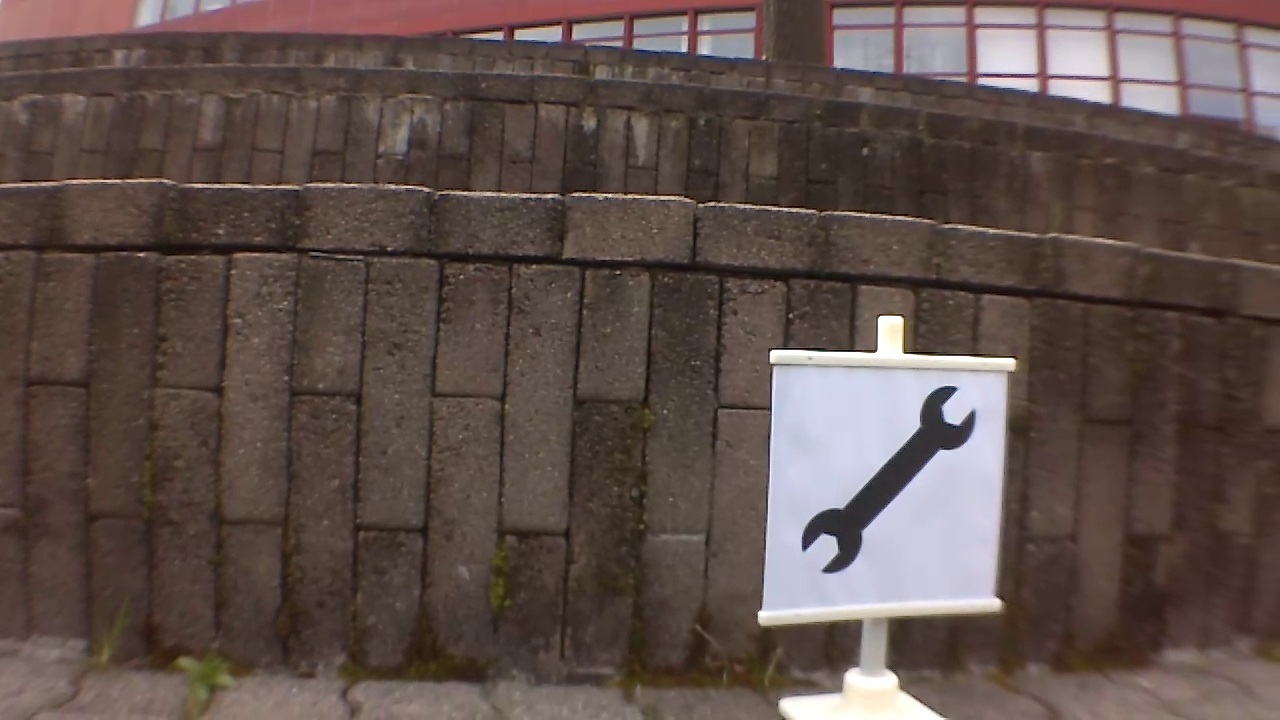wrench: (800, 384, 977, 573)
